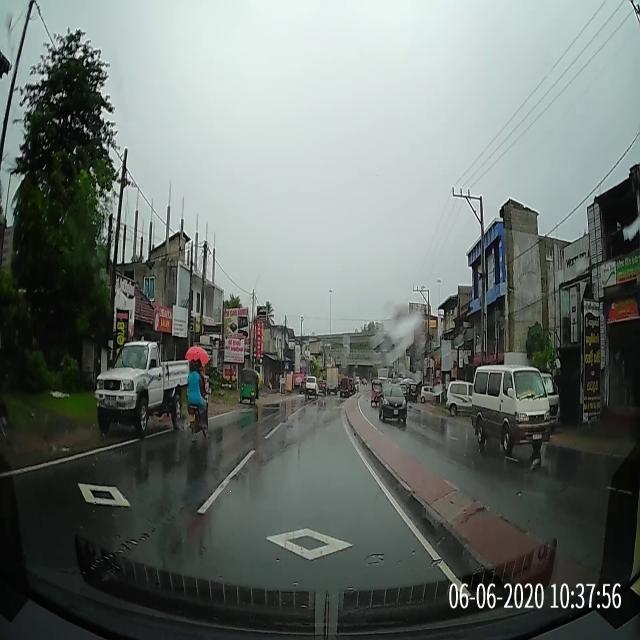diamond: (161, 489, 460, 576)
